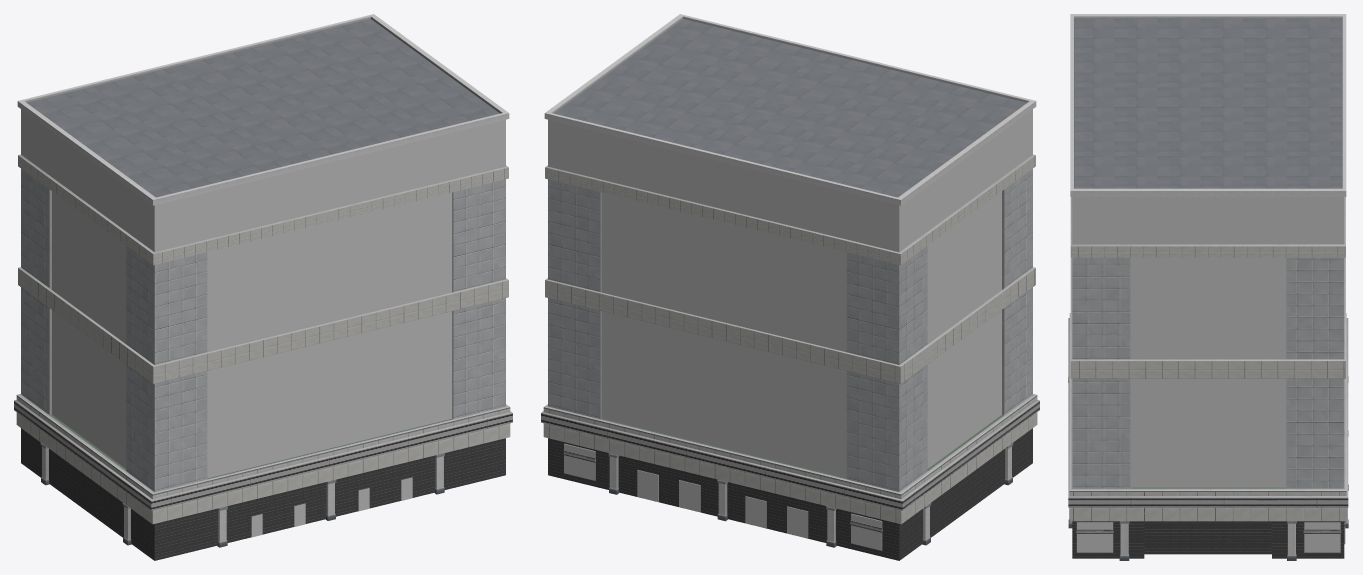
The model's file is House_GP.fbx.
3 views of the same model, side by side, from view 1: azimuth 30°, elevation 25°; view 2: azimuth 150°, elevation 25°; view 3: azimuth 270°, elevation 25° (orthographic).
Visible parts, largest first — view 1: House_GP; view 2: House_GP; view 3: House_GP.
Boxes of the visible parts, x1,y1,x2,y2 form: House_GP: (14,14,512,560); House_GP: (541,14,1039,560); House_GP: (1068,14,1348,560).
Size of what is drawn, in the model's own units: 39.9 by 38.28 by 26.36.
